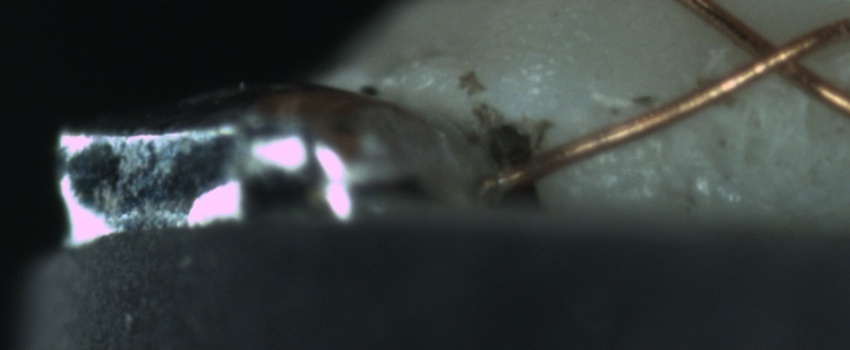CL: (725, 19, 827, 92)
